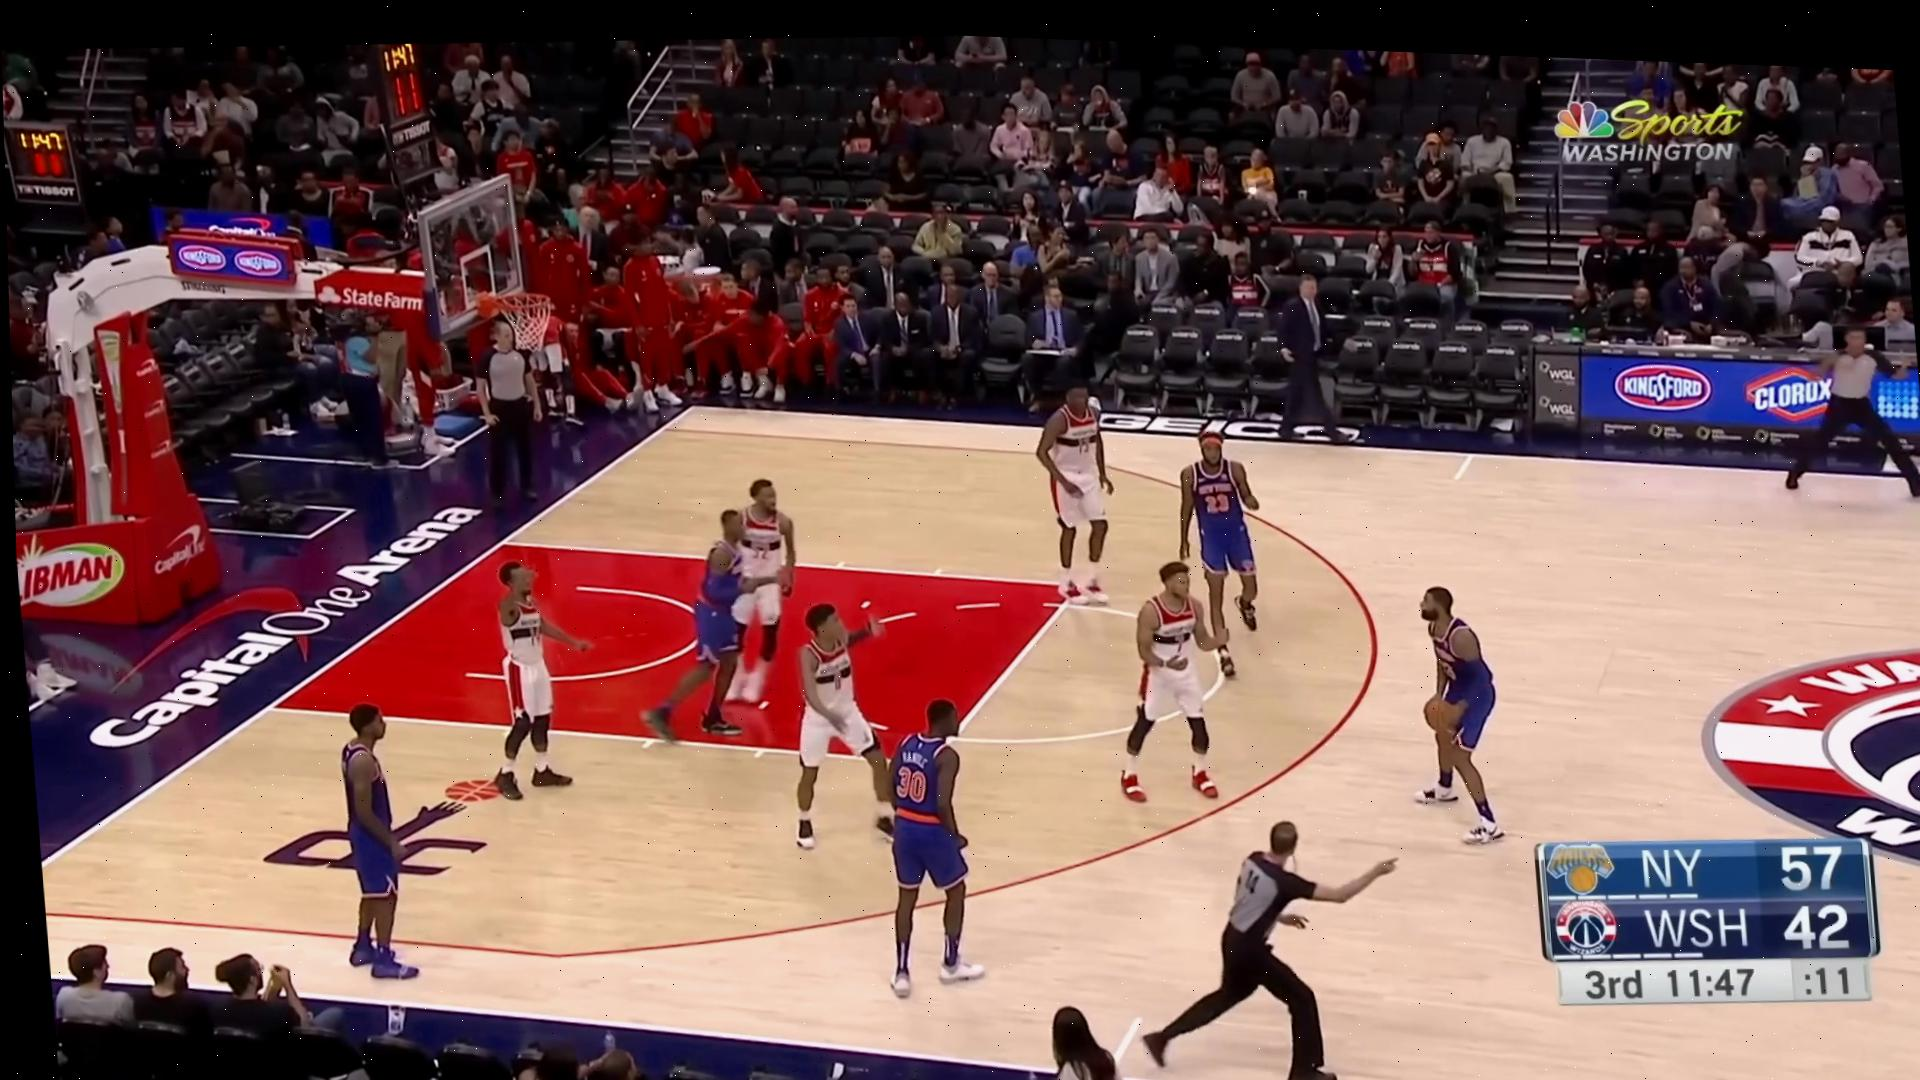no_foul: (1004, 375, 1295, 675)
